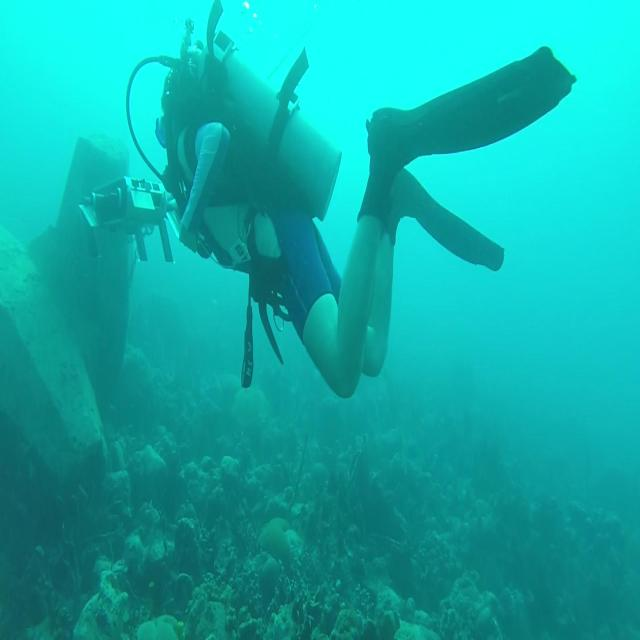human: (149, 7, 577, 399)
